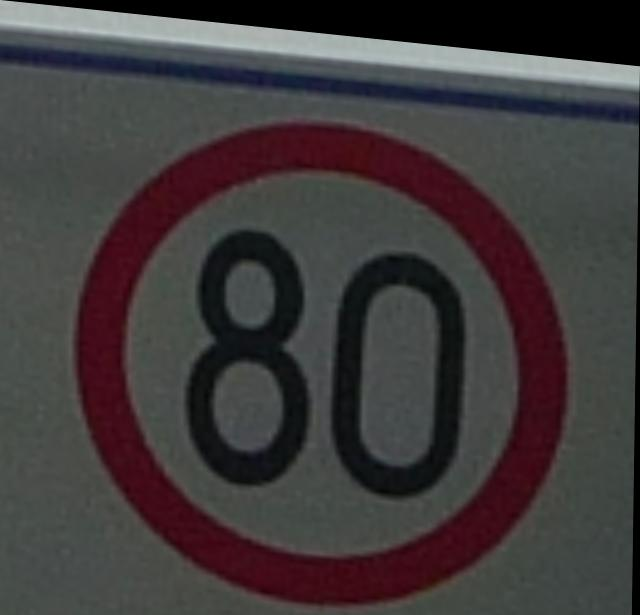limit80: (64, 85, 579, 615)
